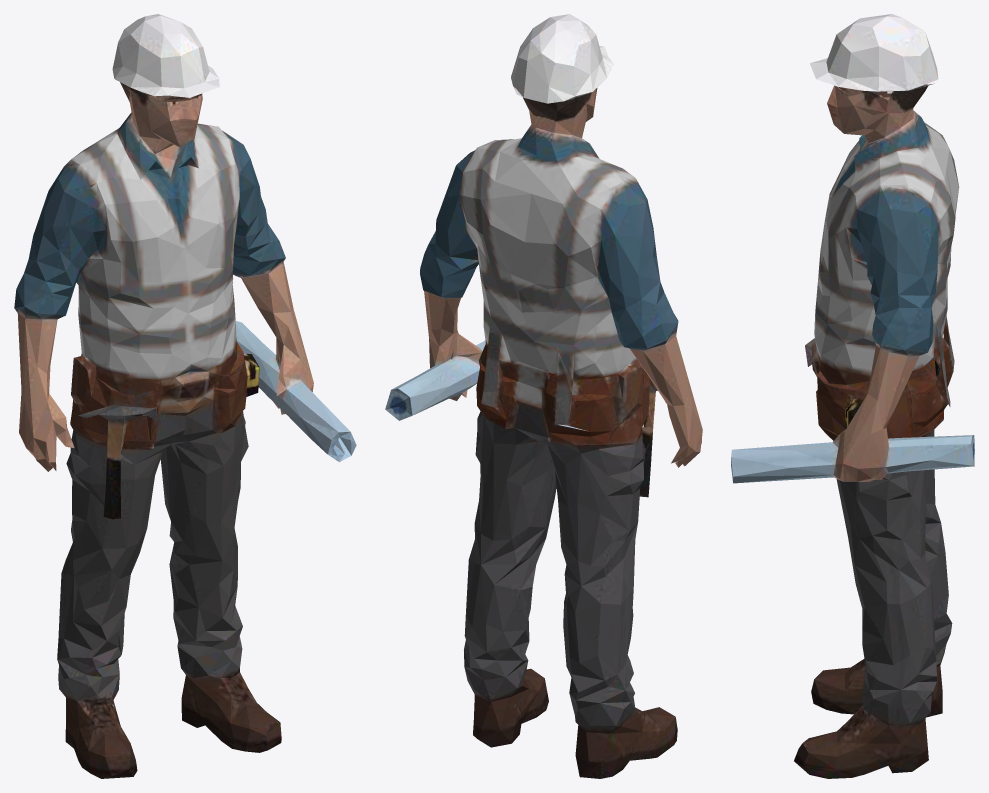
Rendered from realistic-cc0.95bf4458adc9.engineer.glb.
3 views of the same model, side by side, from view 1: azimuth 30°, elevation 25°; view 2: azimuth 150°, elevation 25°; view 3: azimuth 270°, elevation 25° (orthographic).
Visible parts, largest first — view 1: engineer; view 2: engineer; view 3: engineer.
Boxes of the visible parts, x1=… form: engineer: x1=14, y1=14, x2=356, y2=778; engineer: x1=385, y1=14, x2=702, y2=778; engineer: x1=731, y1=14, x2=974, y2=778.
Bounding box in the file's own units: 0.7061 × 1.8 × 0.5511.
2 materials, 2 textured.
